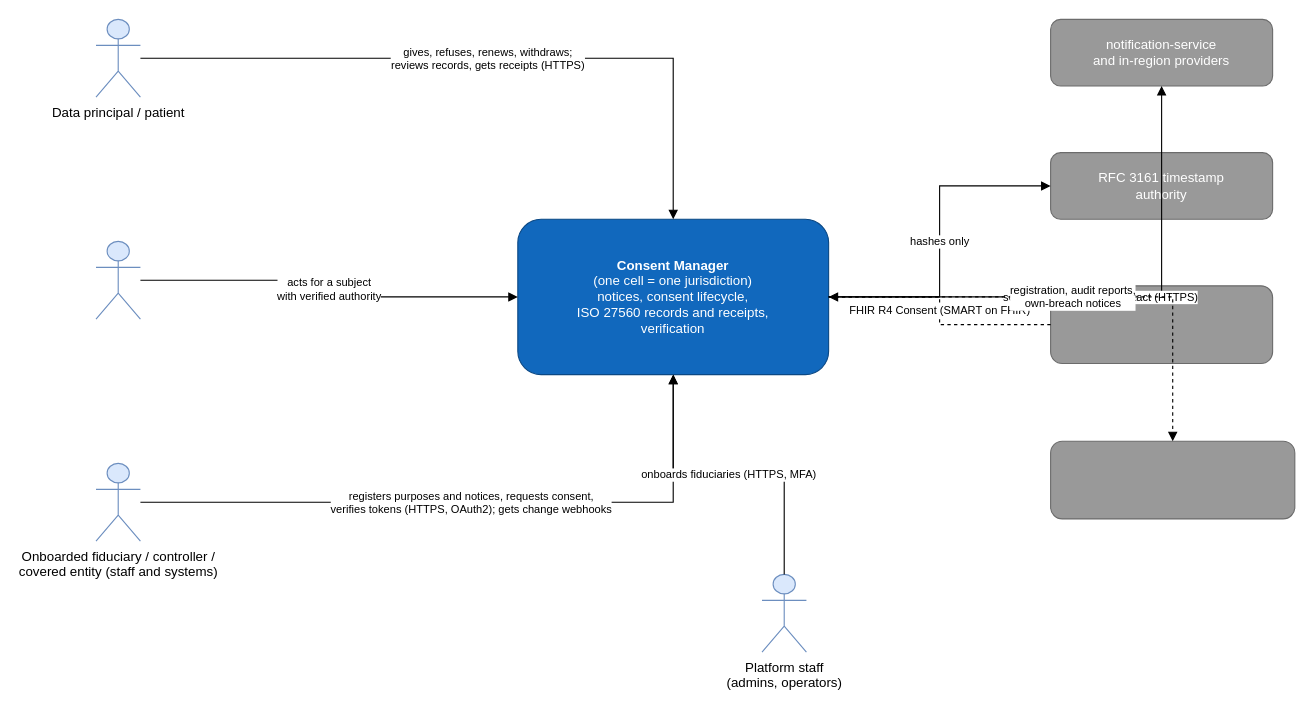
Some shapes in this 1314 by 712 pixel diagram are drawn without their labels. The shapes that lost their labels are listed below. From the top down, each one's box as (x1, y1, x2, y2) in pixels, then its label:
(95, 240, 140, 319): Representative (parent, guardian, nominee, personal representative)
(1050, 285, 1273, 364): Health ecosystems (US Core, ABDM, NPHIES, Malaffi, NABIDH)
(1050, 440, 1295, 519): Data Protection Board and other regulators
